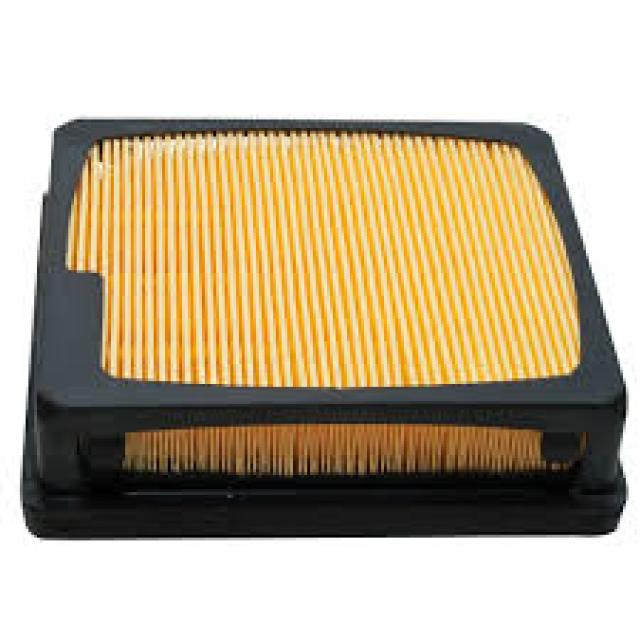air_filter: (42, 125, 550, 407)
